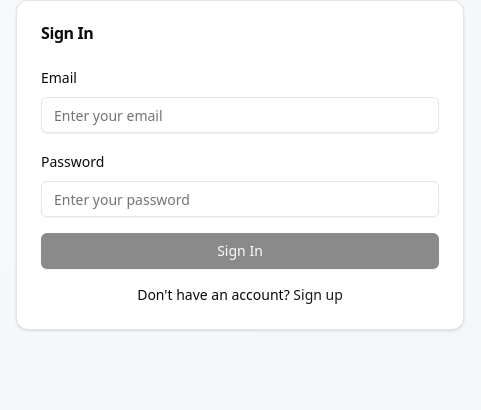
Test case: SignInForm › should show validation errors on form submission
This screenshot has width=481, height=410.
Type "invalid-email" into the field with id "signin-email". click: (240,115)
box: [41,97,439,133]
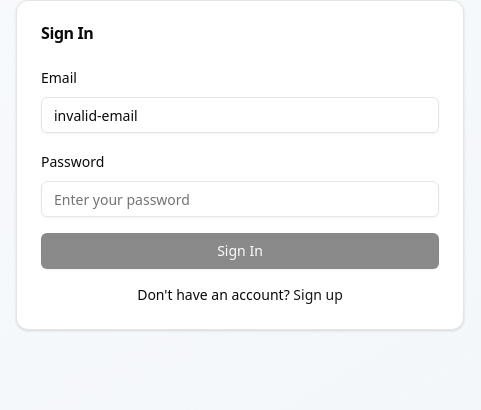
Submit the form, box [41,65,439,269]
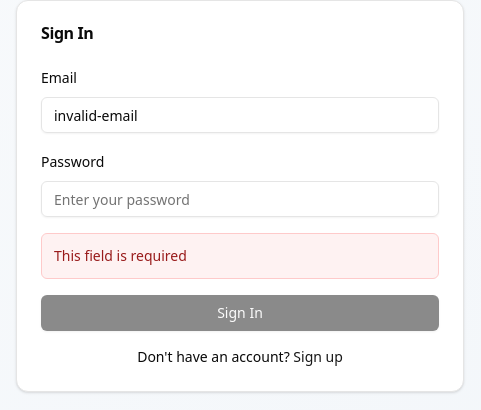
Expected: the text "This field is required" is shown, [54,246,187,265]
